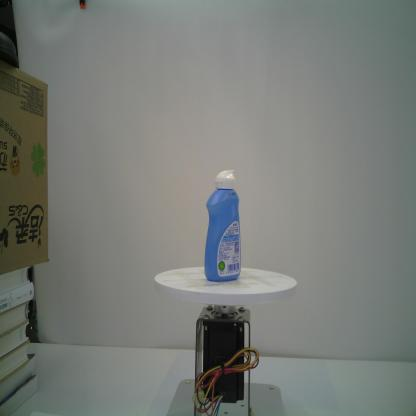Personal Hygiene: (203, 167, 243, 285)
